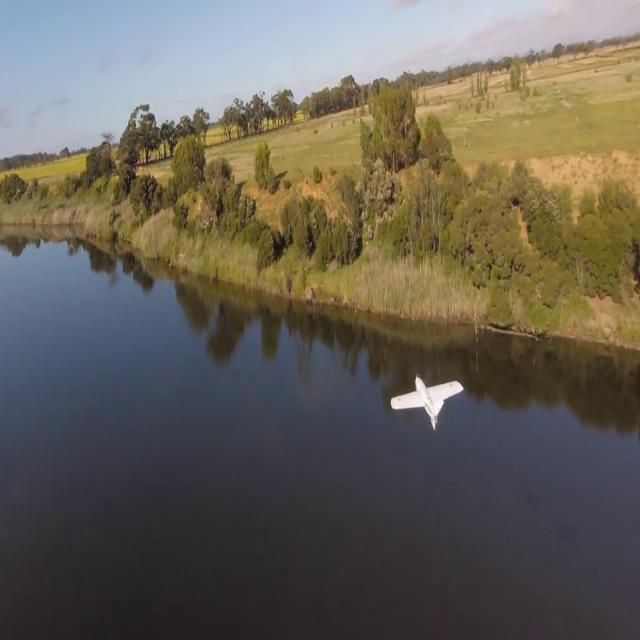iha: (419, 374, 433, 429)
